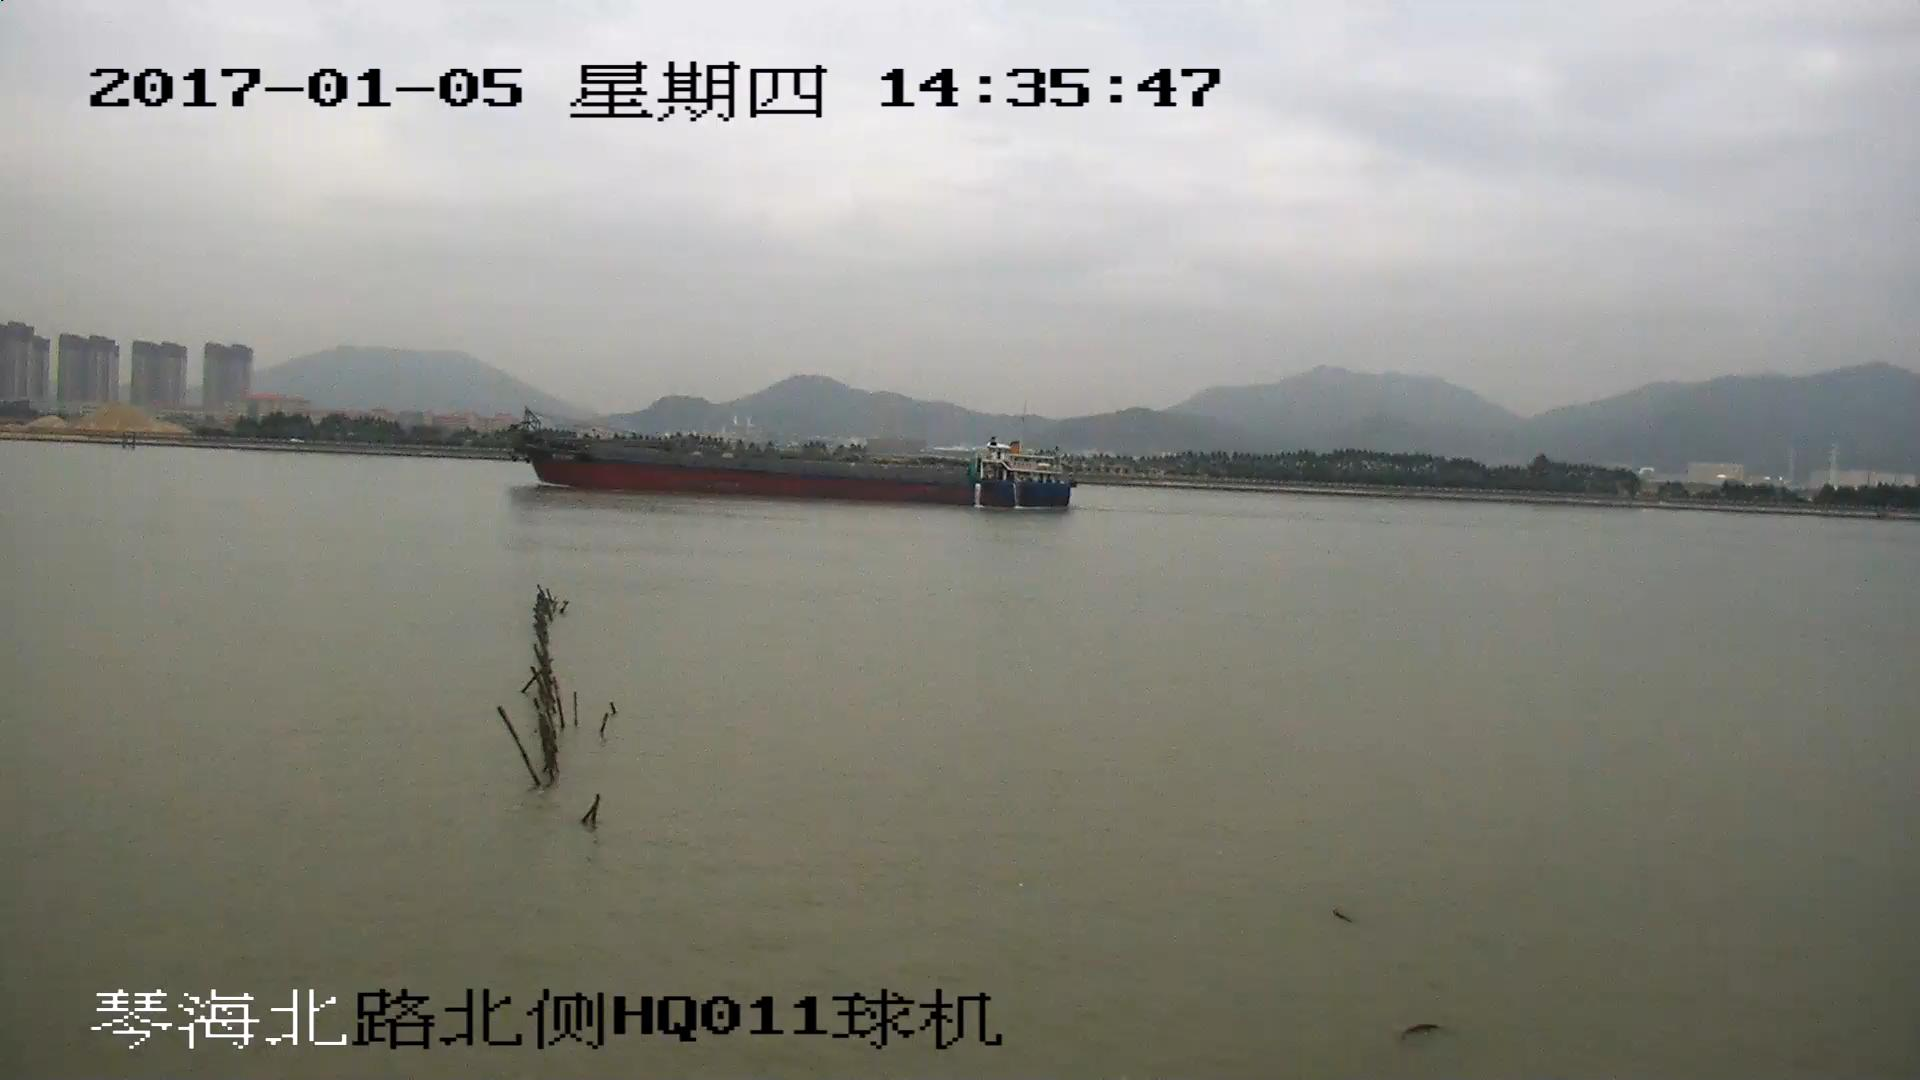bulk cargo carrier: (498, 408, 1069, 510)
